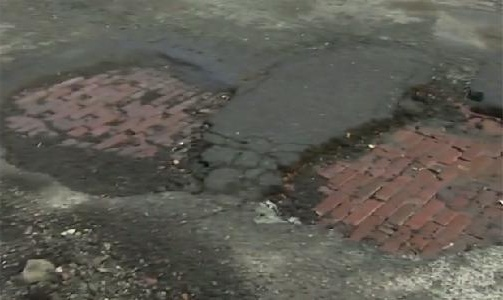pothole: (253, 76, 502, 255), (0, 56, 240, 198)
